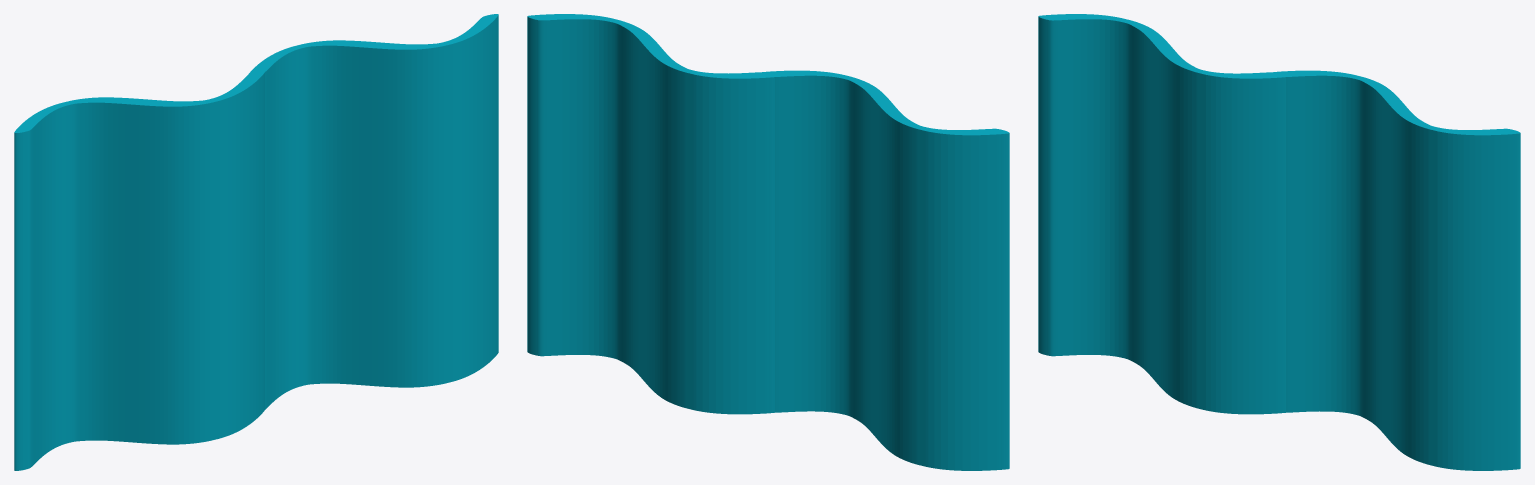
The model's file is blueFlag.glb.
3 renders of one model, left to right at view 1: azimuth 30°, elevation 25°; view 2: azimuth 150°, elevation 25°; view 3: azimuth 330°, elevation 25°, orthographic.
Parts seen in each view (by area): view 1: Mesh_Mesh_head_geo.001_lambert2SG.001; view 2: Mesh_Mesh_head_geo.001_lambert2SG.001; view 3: Mesh_Mesh_head_geo.001_lambert2SG.001.
Boxes of the visible parts, left/top/right/bottom form: Mesh_Mesh_head_geo.001_lambert2SG.001: left=14, top=14, right=498, bottom=470; Mesh_Mesh_head_geo.001_lambert2SG.001: left=527, top=14, right=1009, bottom=470; Mesh_Mesh_head_geo.001_lambert2SG.001: left=1038, top=14, right=1520, bottom=470.
Bounding box in the file's own units: 0.015 × 0.01 × 0.002.
